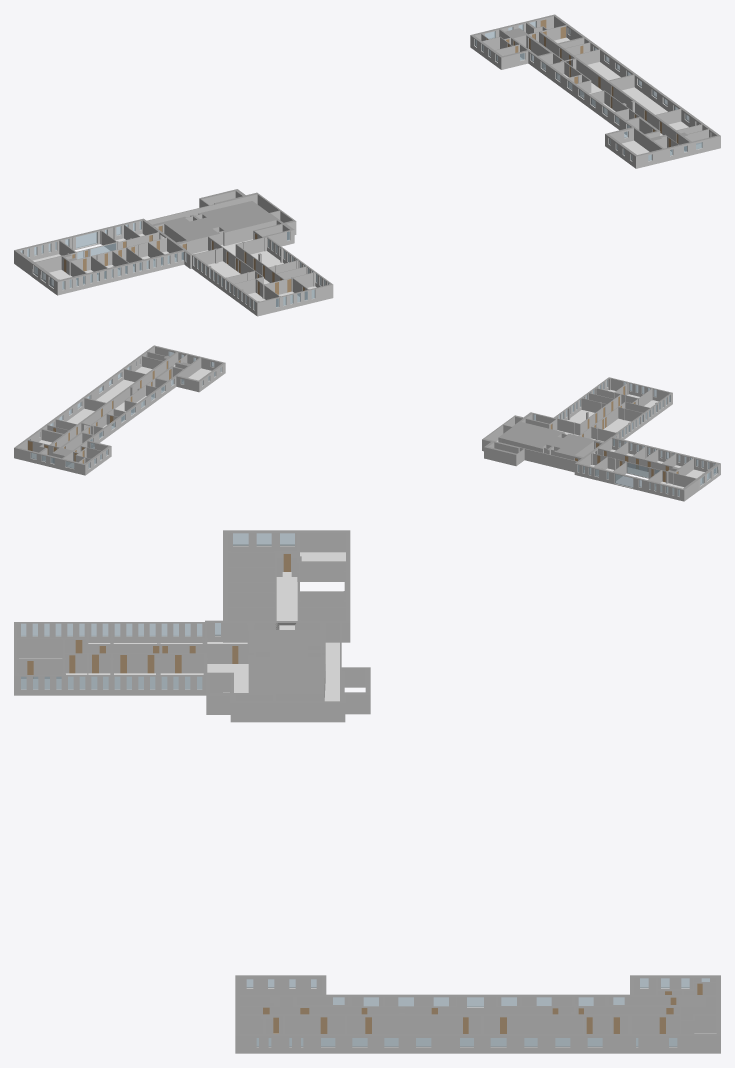
File: VeaModel3.glb
The picture shows the model from 3 angles, top to bottom: view 1: azimuth 30°, elevation 25°; view 2: azimuth 150°, elevation 25°; view 3: azimuth 270°, elevation 25°; orthographic projection. The views are drawn at different scales.
Parts seen in each view (by area): view 1: 3ACD; view 2: 3ACD; view 3: 3ACD.
Boxes of the visible parts, left/top/right/bottom form: 3ACD: left=14, top=14, right=720, bottom=316; 3ACD: left=14, top=345, right=720, bottom=501; 3ACD: left=14, top=530, right=720, bottom=1053.
Bounding box in the file's own units: 4.36 × 0.2007 × 2.73.
